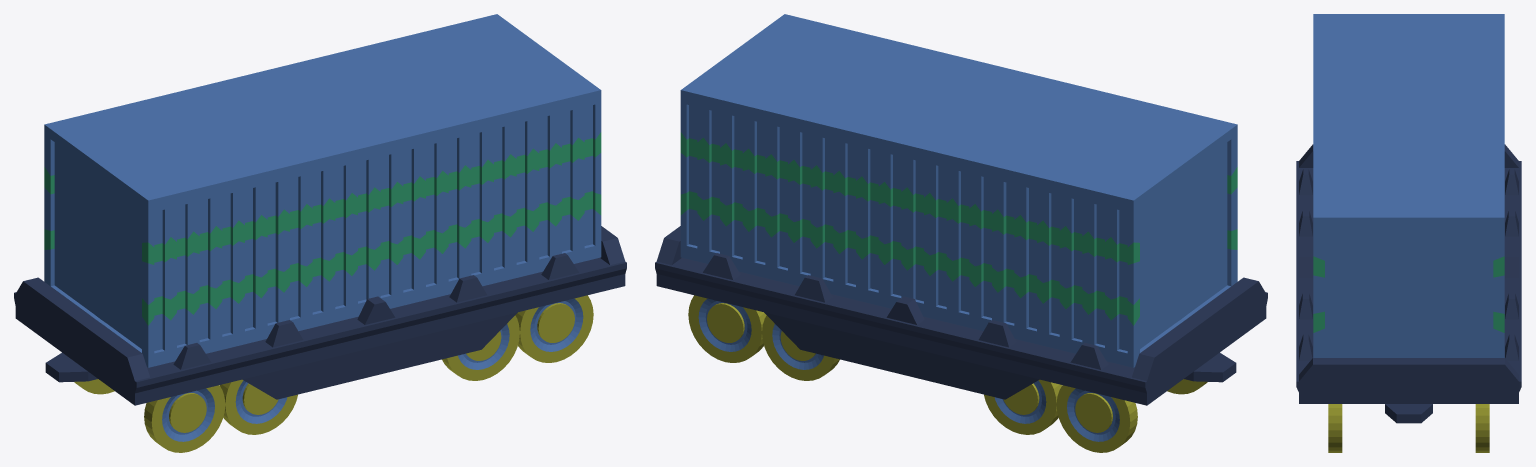
Rendered from CargoWheels02.fbx.
3 views of the same model, side by side, from view 1: azimuth 30°, elevation 25°; view 2: azimuth 150°, elevation 25°; view 3: azimuth 270°, elevation 25° (orthographic). The views are drawn at different scales.
Parts seen in each view (by area): view 1: CargoWheels02; view 2: CargoWheels02; view 3: CargoWheels02.
Boxes of the visible parts, x1=… form: CargoWheels02: x1=14, y1=14, x2=626, y2=452; CargoWheels02: x1=655, y1=14, x2=1267, y2=452; CargoWheels02: x1=1296, y1=14, x2=1521, y2=452.
Size of the model in its own units: 856 by 411 by 339.
